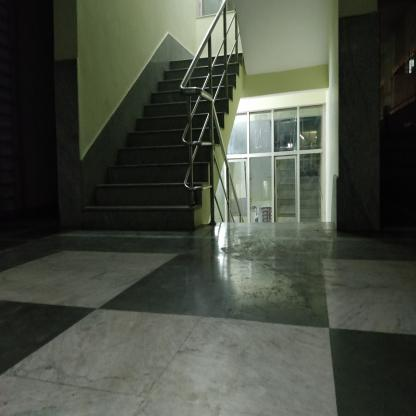stairs: (127, 128, 182, 234)
